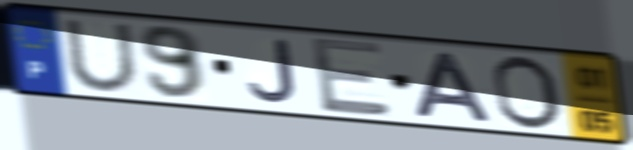9: (137, 24, 213, 102)
A: (409, 49, 497, 125)
E: (306, 34, 395, 119)
J: (244, 38, 301, 106)
O: (489, 53, 566, 132)
U: (59, 18, 144, 95)
